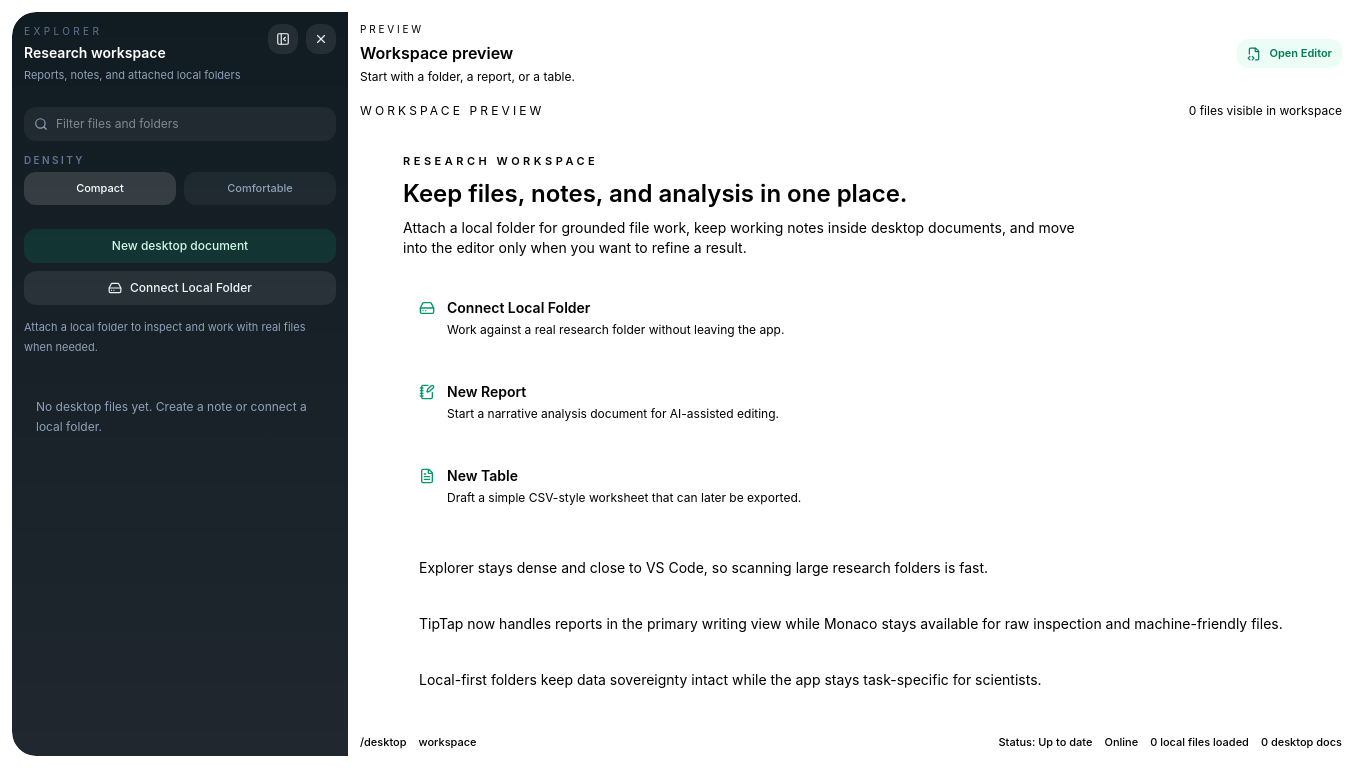
DesktopWorkbench local explorer › loads only the root directory on connect and lazily expands nested folders
Click the button "Connect Local Folder" at (180, 288), box top-left (24, 270), bottom-right (336, 304)
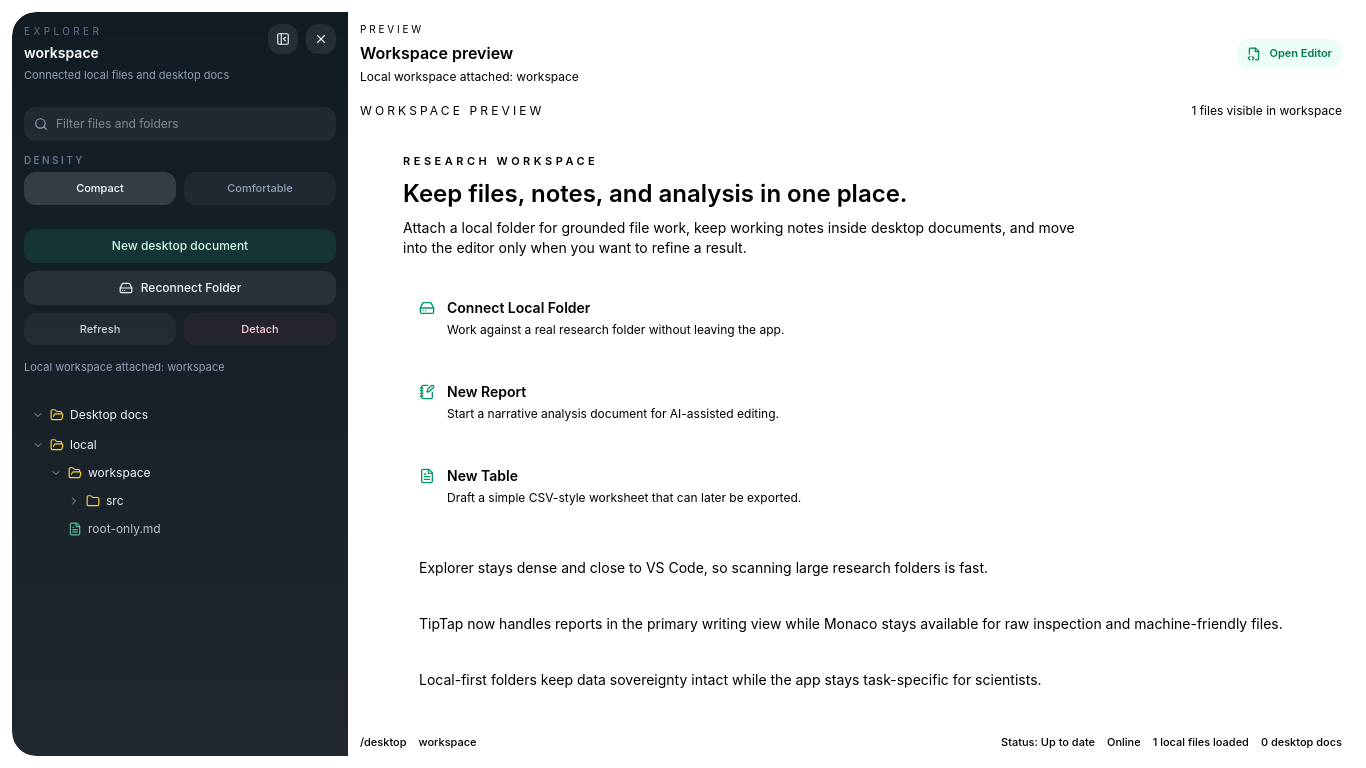
Expected: the text "nested.ts" is not shown
Now the text "root-only.md" is shown, box top-left (88, 519), bottom-right (161, 539)
Now the text "src" is shown, box top-left (106, 491), bottom-right (124, 511)
Click the list item "src" at (96, 500), box top-left (68, 493), bottom-right (124, 508)
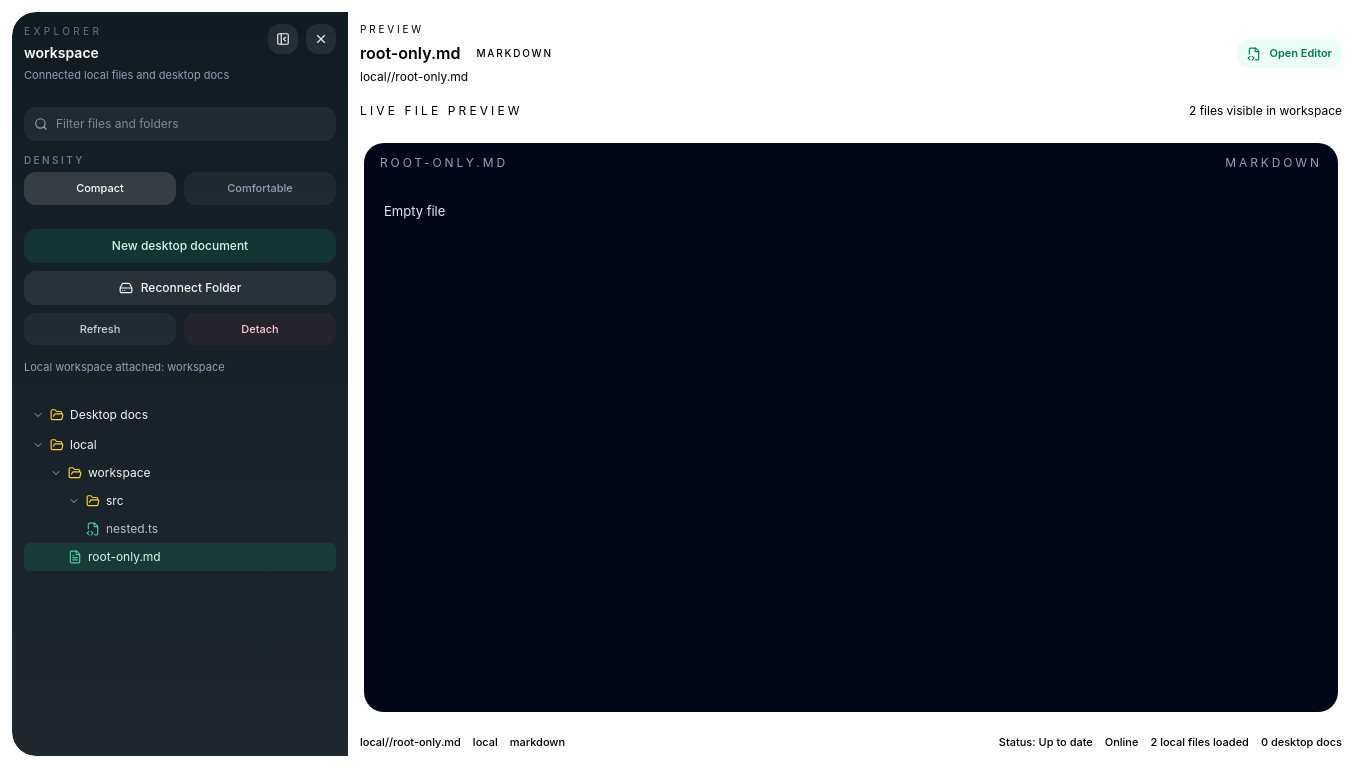
Now the text "nested.ts" is shown, box top-left (106, 519), bottom-right (158, 539)
